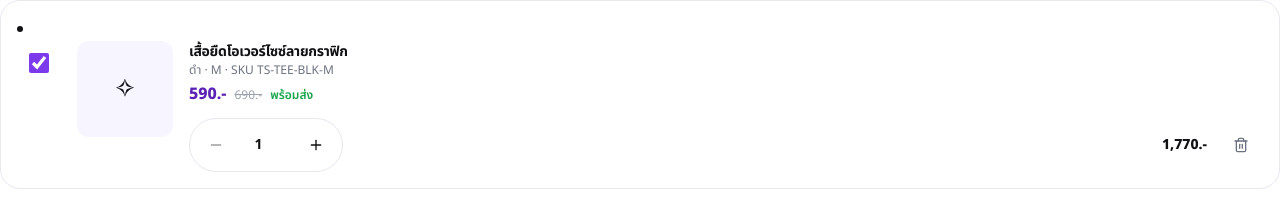
it: CartItemRow — จำนวนในตะกร้า (STEP 37) › พิมพ์ค่าว่างแล้วออกจากช่อง ต้องกลับเป็นจำนวนเดิม ไม่ใช่ช่องว่าง
Clear the number field named "จำนวนของ" at (266, 145), box x1=242 y1=135 x2=290 y2=155
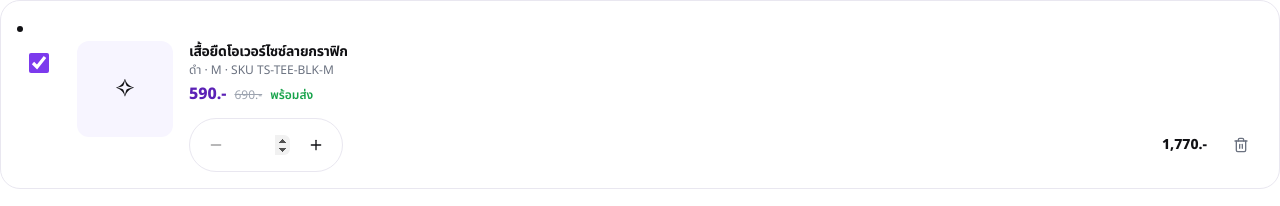
Press Tab
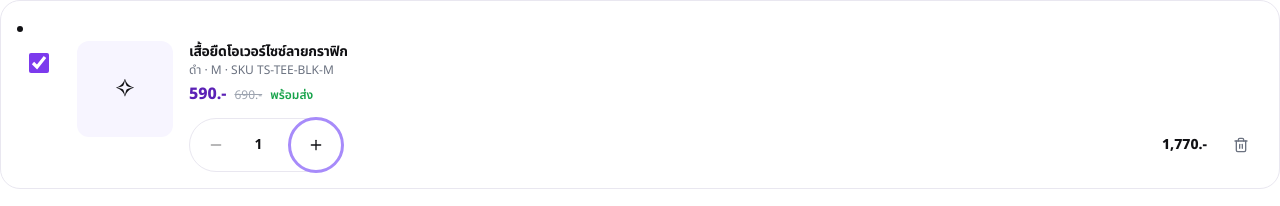
Result: the number field named "จำนวนของ" holds "1" at x1=242 y1=135 x2=290 y2=155
